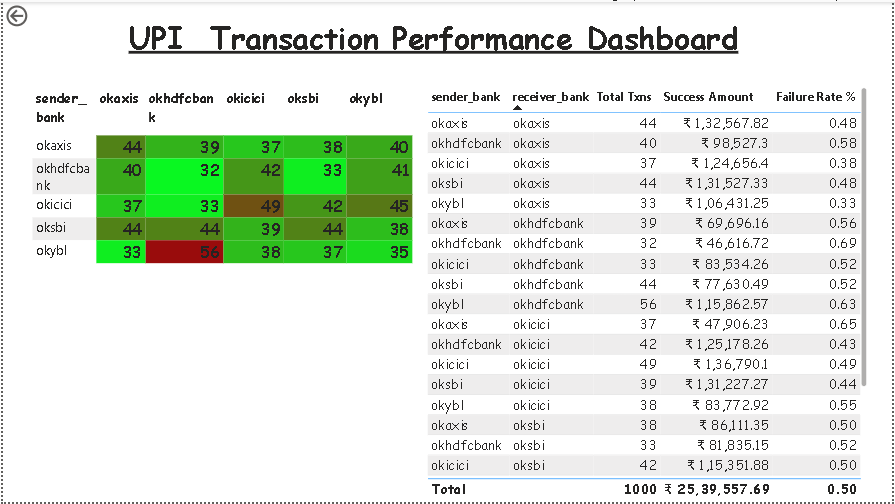

What the dashboard file says about the page in this screenshot:
{"tool":"powerbi","page":{"name":"Bank Flow","canvas":[1280,720],"ordinal":2},"visuals":[{"type":"textbox","box":[10.4,13.8,1219.6,72.5],"z":0},{"type":"pivotTable","fields":{"Rows":["transactions.sender_bank"],"Columns":["transactions.receiver_bank"],"Values":["transactions.Total Txns"]},"box":[37,117.6,569.4,581.2],"z":1},{"type":"tableEx","fields":{"Values":["transactions.sender_bank","transactions.receiver_bank","transactions.Total Txns","transactions.Success Amount","transactions.Failure Rate %"]},"box":[606.4,117.6,643.4,603],"z":2},{"type":"actionButton","box":[0,0,100,40],"z":3}]}

Visuals, with their boxes in screenshot pixels (x1, y1, x2, y2), scaled from the page's 1280x720 canvas onto the 895x504 screenshot:
textbox: [7,10,860,60]
pivotTable - transactions.sender_bank x transactions.receiver_bank: [26,82,424,489]
tableEx - transactions.sender_bank x transactions.receiver_bank: [424,82,874,503]
actionButton: [0,0,70,28]
